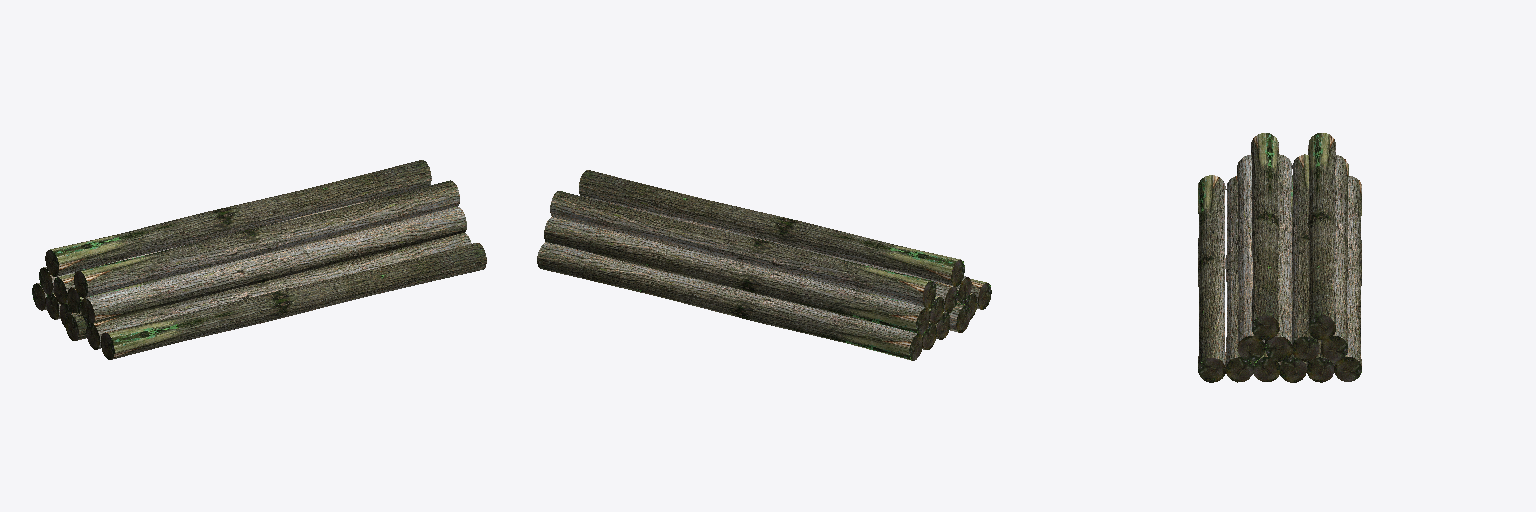
3 views of the same model, side by side, from view 1: azimuth 30°, elevation 25°; view 2: azimuth 150°, elevation 25°; view 3: azimuth 270°, elevation 25° (orthographic).
Parts seen in each view (by area): view 1: tree_logs; view 2: tree_logs; view 3: tree_logs.
Boxes of the visible parts, <box> form: tree_logs: <box>32,160,486,359</box>; tree_logs: <box>537,170,991,360</box>; tree_logs: <box>1198,133,1361,382</box>.
Size of the model in its own units: 205 by 35.43 by 76.89.
1 materials, 1 textured.